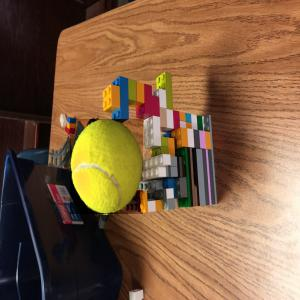TennisBall: (71, 121, 145, 217)
